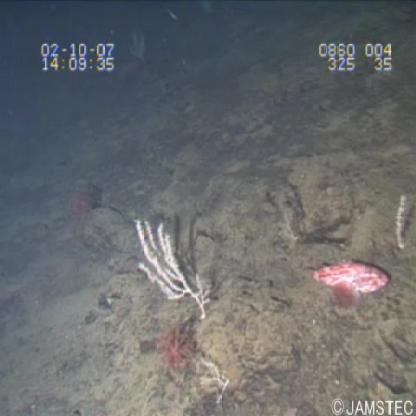Bio: (126, 214, 224, 327), (301, 253, 391, 310)
